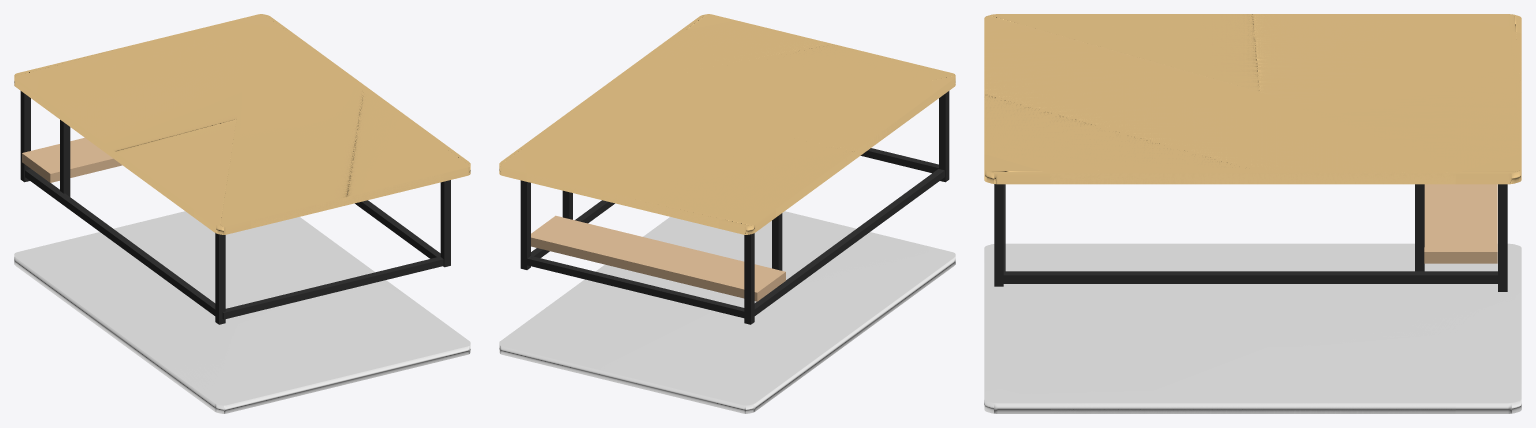
File: Sofa table.fbx
3 renders of one model, left to right at view 1: azimuth 30°, elevation 25°; view 2: azimuth 150°, elevation 25°; view 3: azimuth 270°, elevation 25°, orthographic. The views are drawn at different scales.
Visible parts, largest first — view 1: Cube, Cube.001, 立方体.004, 立方体.007, 平面, 立方体.006, 立方体, 立方体.001, 立方体.003, 立方体.008; view 2: Cube, Cube.001, 平面, 立方体.004, 立方体.005, 立方体.003, 立方体.002, 立方体, 立方体.007, 立方体.008, 立方体.006; view 3: Cube, Cube.001, 立方体.006, 平面, 立方体.002, 立方体.001, 立方体.009.
Boxes of the visible parts, x1=… form: Cube: x1=14, y1=14, x2=470, y2=234; Cube.001: x1=14, y1=211, x2=470, y2=413; 立方体.004: x1=25, y1=169, x2=215, y2=315; 立方体.007: x1=222, y1=257, x2=443, y2=319; 平面: x1=22, y1=137, x2=122, y2=182; 立方体.006: x1=355, y1=200, x2=441, y2=258; 立方体: x1=215, y1=233, x2=225, y2=324; 立方体.001: x1=440, y1=180, x2=450, y2=267; 立方体.003: x1=20, y1=91, x2=30, y2=182; 立方体.008: x1=60, y1=120, x2=70, y2=196; Cube: x1=499, y1=14, x2=955, y2=234; Cube.001: x1=499, y1=211, x2=955, y2=413; 平面: x1=531, y1=215, x2=785, y2=301; 立方体.004: x1=754, y1=169, x2=944, y2=315; 立方体.005: x1=524, y1=256, x2=747, y2=318; 立方体.003: x1=744, y1=233, x2=754, y2=324; 立方体.002: x1=520, y1=180, x2=530, y2=269; 立方体: x1=939, y1=91, x2=949, y2=182; 立方体.007: x1=860, y1=148, x2=938, y2=173; 立方体.008: x1=772, y1=213, x2=782, y2=286; 立方体.006: x1=529, y1=200, x2=614, y2=257; Cube: x1=984, y1=14, x2=1521, y2=184; Cube.001: x1=984, y1=243, x2=1521, y2=413; 立方体.006: x1=1003, y1=271, x2=1497, y2=283; 平面: x1=1424, y1=184, x2=1497, y2=263; 立方体.002: x1=1498, y1=184, x2=1507, y2=291; 立方体.001: x1=994, y1=184, x2=1003, y2=286; 立方体.009: x1=1415, y1=184, x2=1424, y2=271.
Size of the model in its own units: 640 by 449 by 910.
